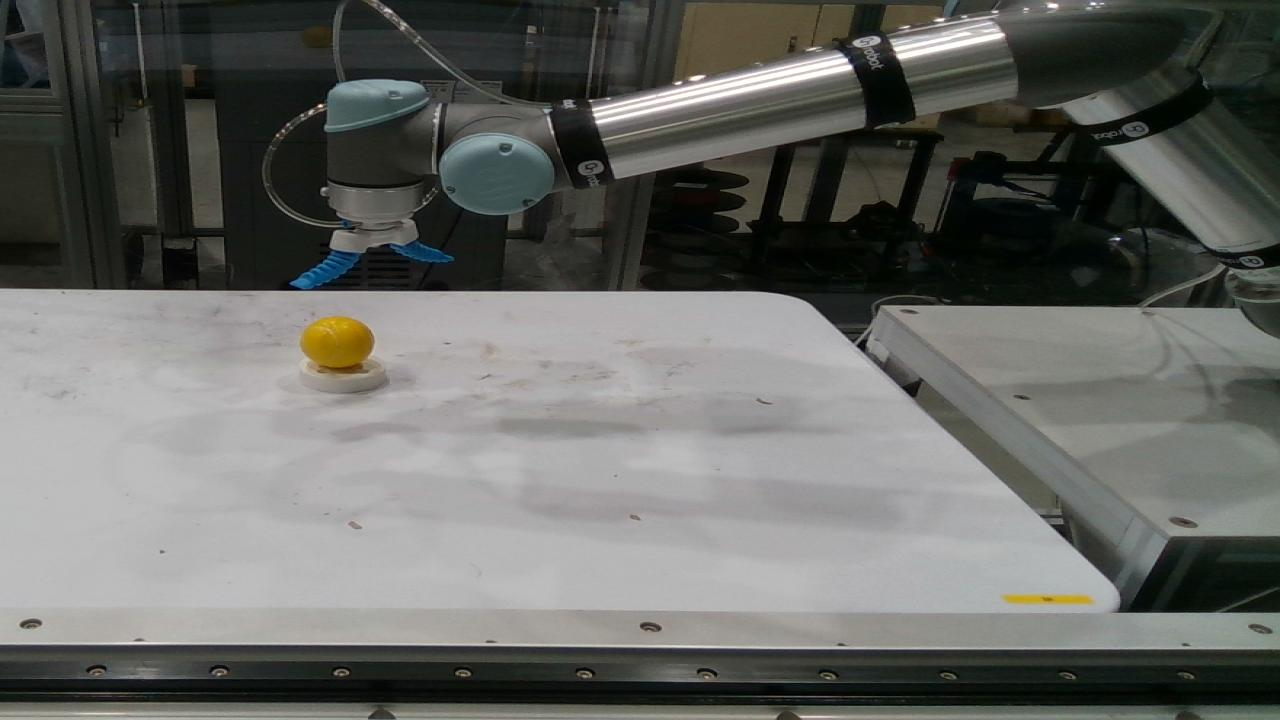UR5: (321, 6, 1279, 336)
gripper_left: (390, 238, 456, 262)
gripper_right: (290, 249, 362, 290)
target: (299, 350, 387, 393), (301, 316, 375, 367)
